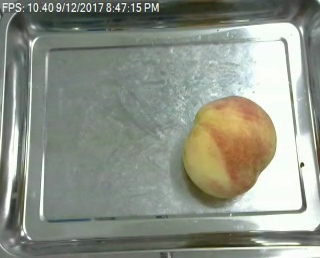Peach: (182, 94, 277, 198)
